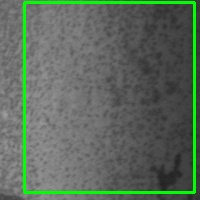pitted_surface: (24, 2, 194, 192)
